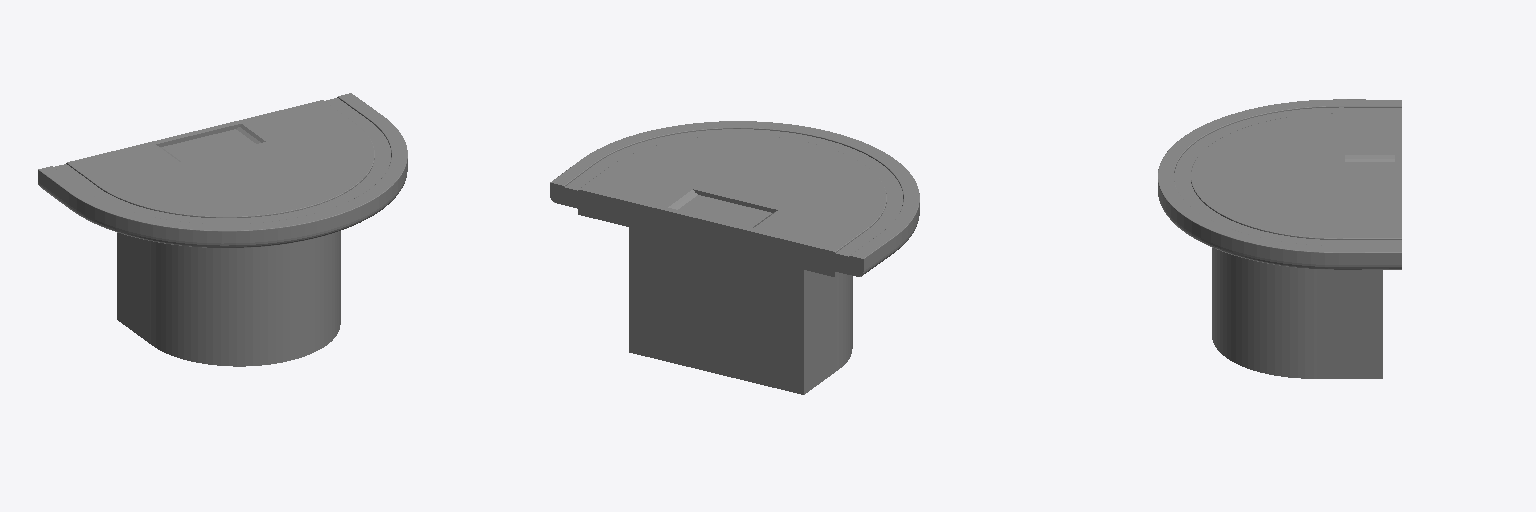
Rendered from blackjack_table.obj.
3 views of the same model, side by side, from view 1: azimuth 30°, elevation 25°; view 2: azimuth 150°, elevation 25°; view 3: azimuth 270°, elevation 25° (orthographic).
Visible parts, largest first — view 1: Cylinder001_Mesh; view 2: Cylinder001_Mesh; view 3: Cylinder001_Mesh.
Boxes of the visible parts, x1,y1,x2,y2 form: Cylinder001_Mesh: [38, 93, 407, 366]; Cylinder001_Mesh: [550, 121, 919, 394]; Cylinder001_Mesh: [1158, 99, 1401, 378].
Bounding box in the file's own units: 2.85 × 1.38 × 1.92.